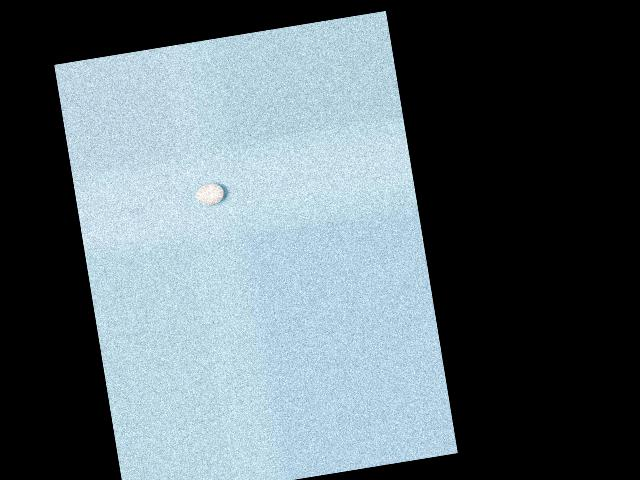egg: (194, 181, 225, 207)
